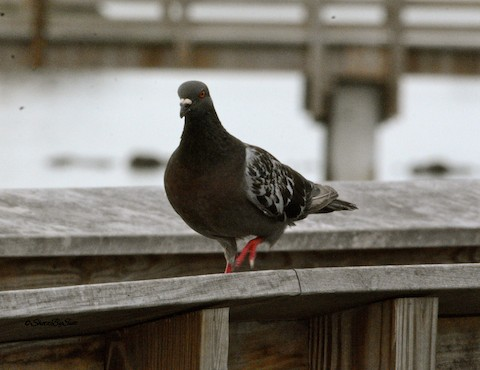pigeon: (151, 78, 363, 279)
